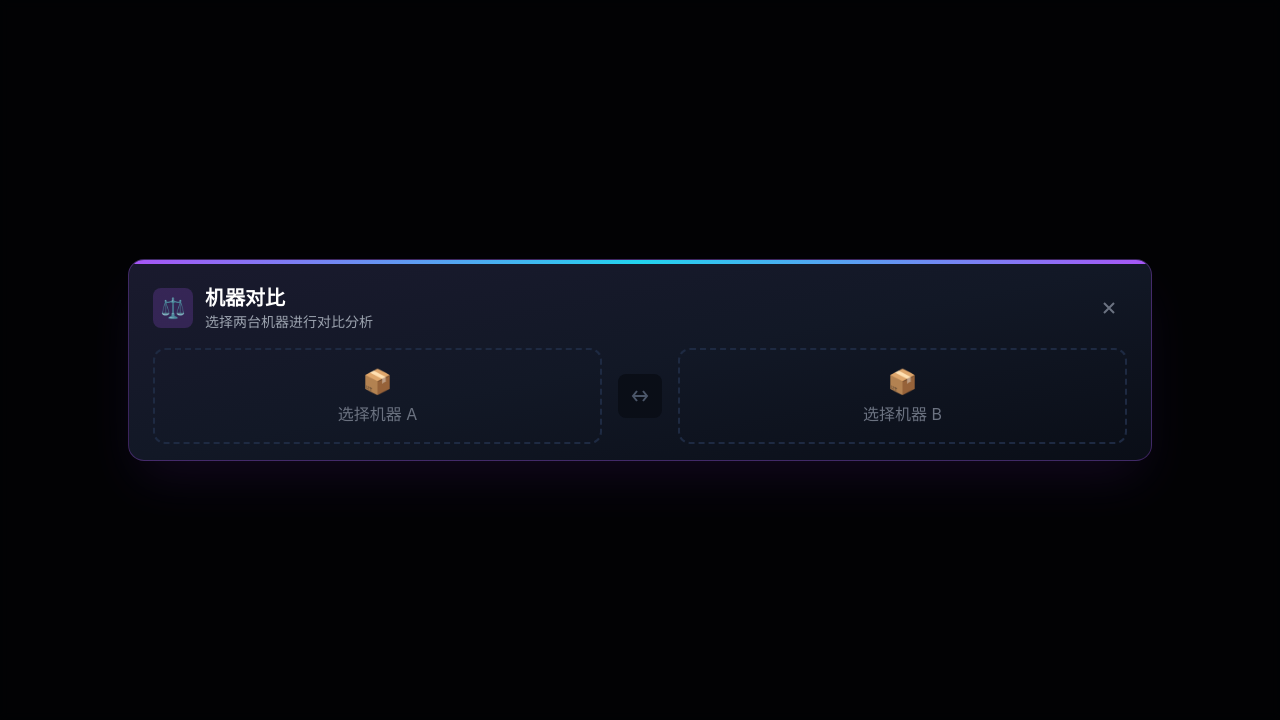
Scenario: MachineComparisonPanel › Machine Selection Modal › opens machine selector modal header when selecting machine A
Click the button with test id "select-machine-a-button". click: (378, 396)
box: [153, 348, 602, 444]
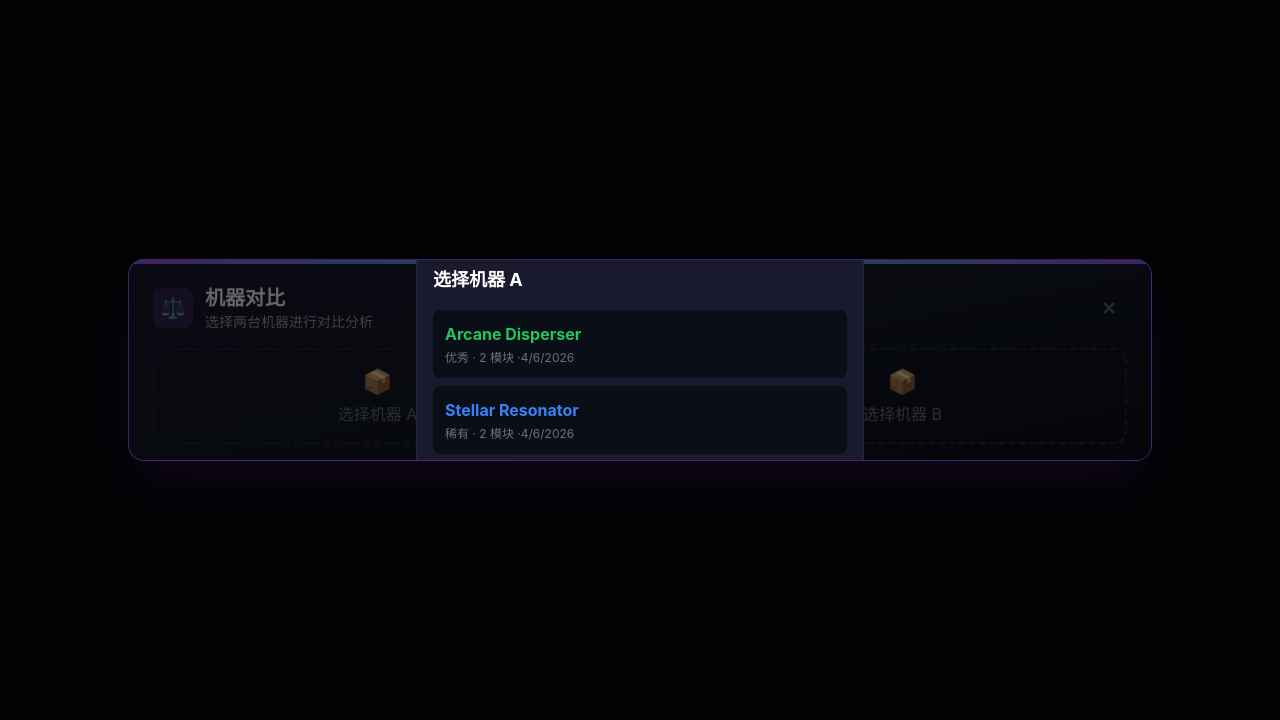
Expected: the heading "选择机器 A" is shown, [433, 269, 523, 290]
